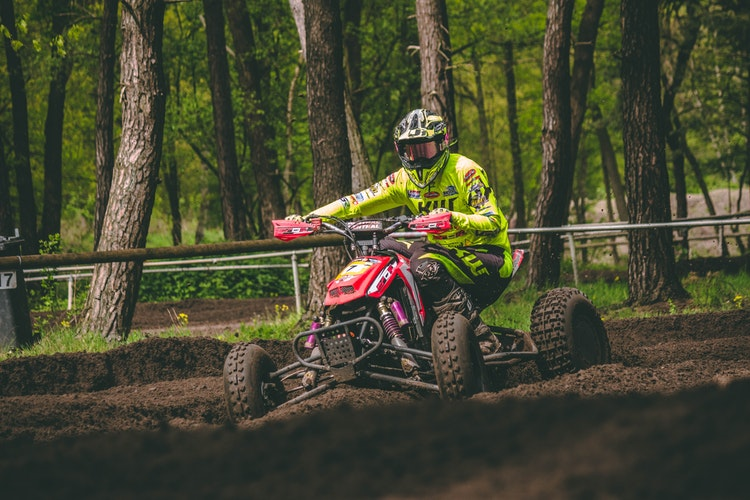helmet: (394, 102, 454, 181)
